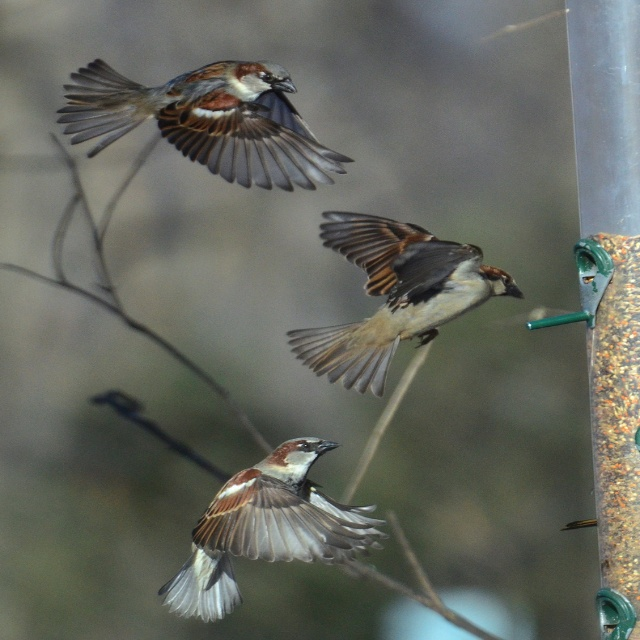Sparrow: (290, 210, 527, 400), (148, 442, 385, 615), (55, 59, 355, 190)
